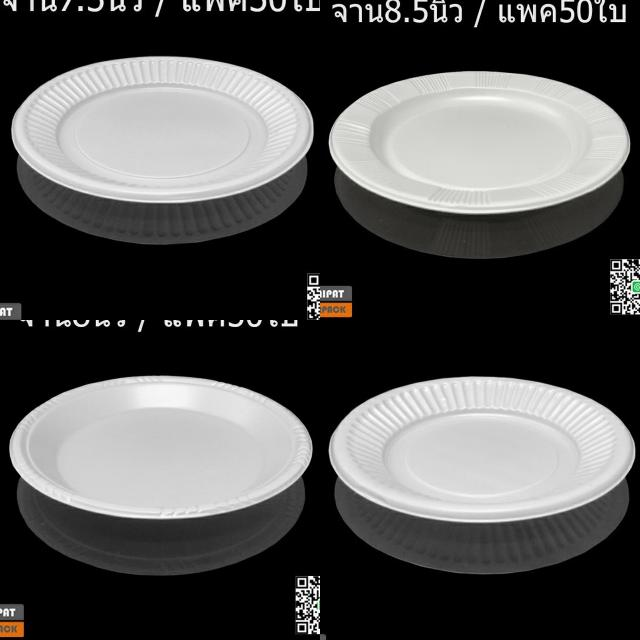Single-Use-Plastic: (12, 56, 312, 203), (330, 378, 635, 522), (10, 376, 311, 519), (330, 71, 630, 213)
